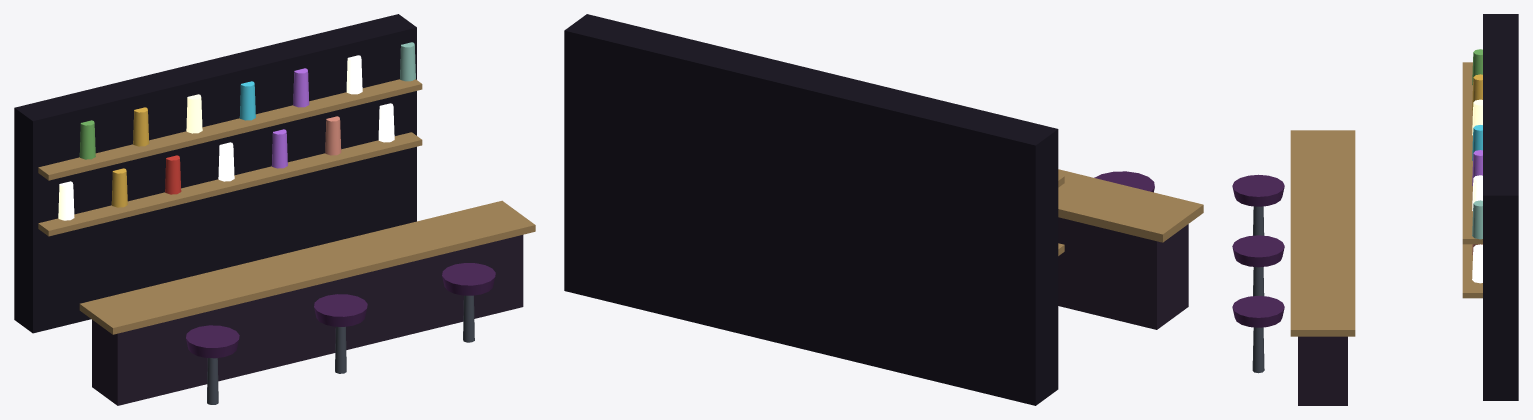
Rendered from prop_club_bar_ph.glb.
3 views of the same model, side by side, from view 1: azimuth 30°, elevation 25°; view 2: azimuth 150°, elevation 25°; view 3: azimuth 270°, elevation 25° (orthographic). The views are drawn at different scales.
Parts seen in each view (by area): view 1: prop_club_bar; view 2: prop_club_bar; view 3: prop_club_bar.
Boxes of the visible parts, x1,y1,x2,y2 form: prop_club_bar: (14, 14, 535, 405); prop_club_bar: (564, 14, 1203, 405); prop_club_bar: (1232, 14, 1518, 405).
Bounding box in the file's own units: 3.96 × 1.9 × 2.4.
